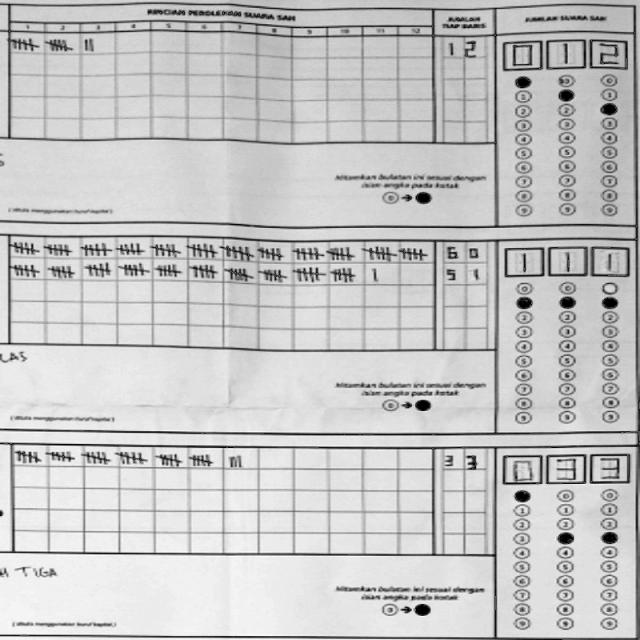Suara: (500, 242, 633, 280), (499, 37, 632, 74), (499, 451, 632, 488)
